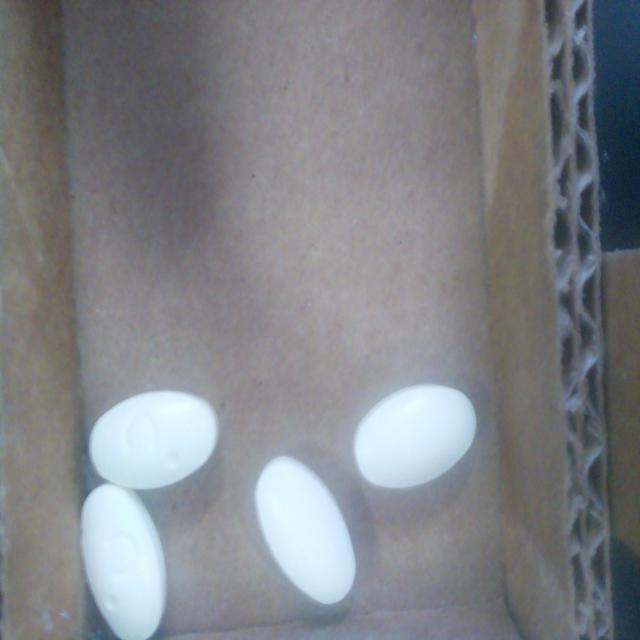pill: (255, 456, 355, 604), (81, 484, 166, 640), (89, 391, 218, 490), (354, 385, 476, 488)
